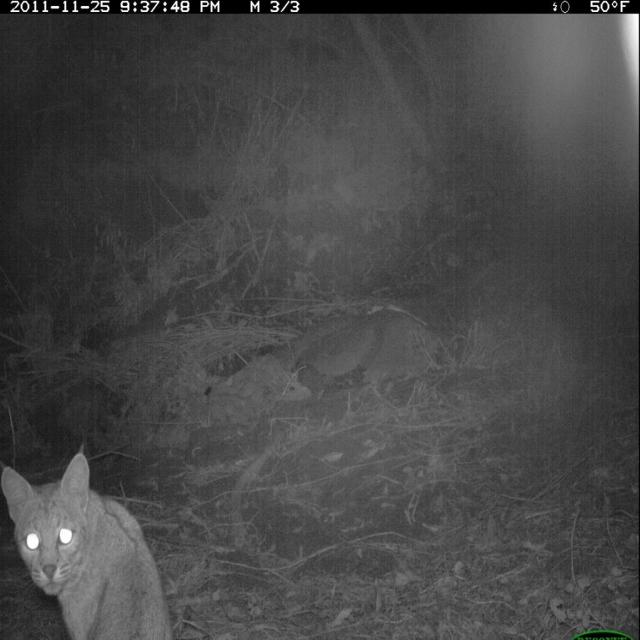bobcat: (1, 444, 171, 636)
